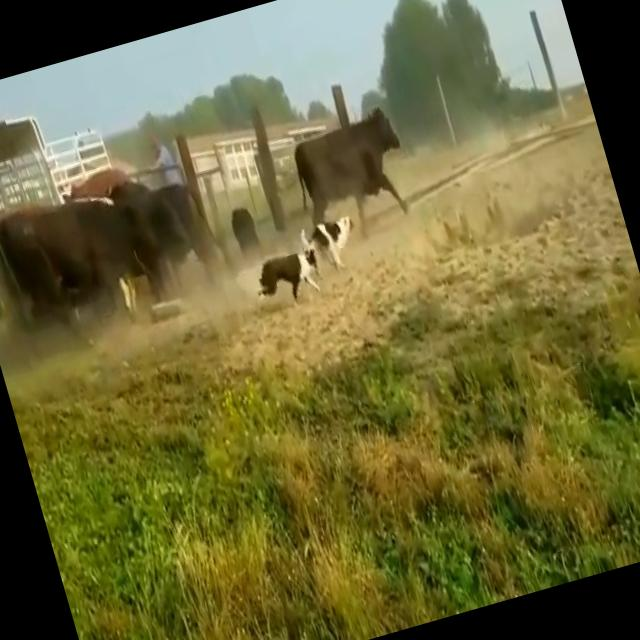cow: (258, 74, 428, 241)
